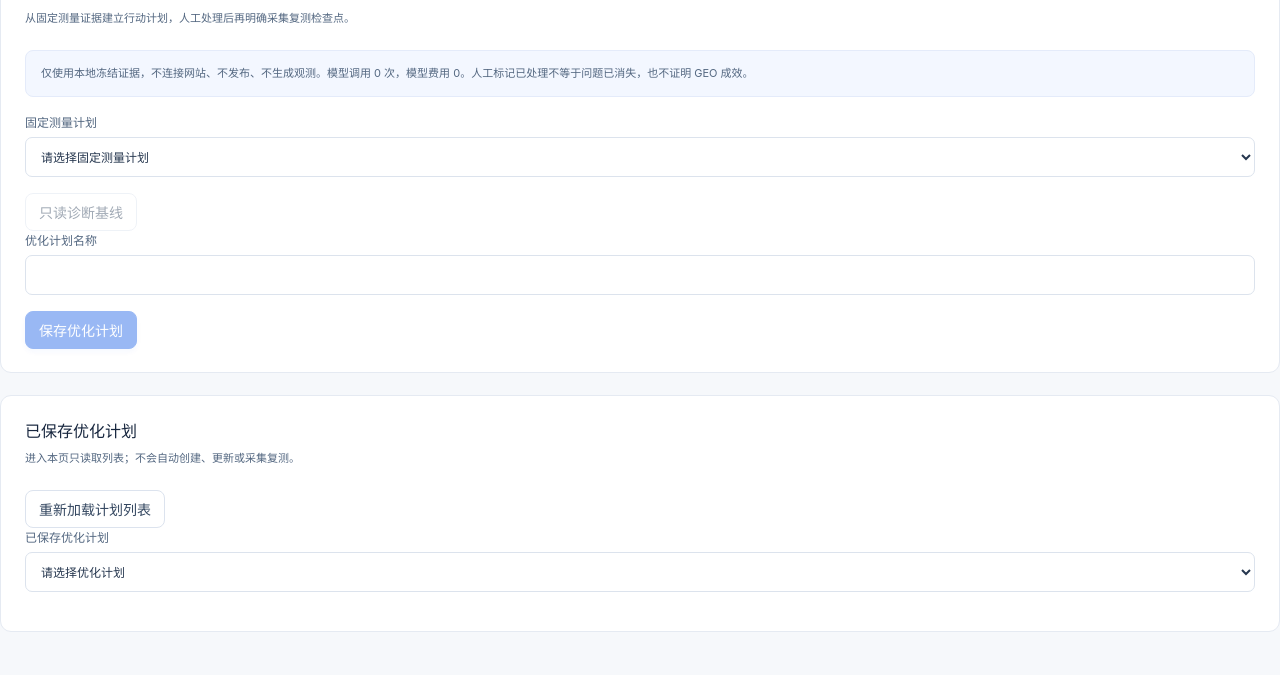
it: uncertain_update_requires_reload_and_never_replays
The image size is (1280, 675).
Select "虚构优化计划 · 模拟数据 · v1 · 检查点 1 · 行动 0/1" in the dropdown labelled "已保存优化计划": (640, 572) x1=25 y1=552 x2=1255 y2=592
(page scrolled)
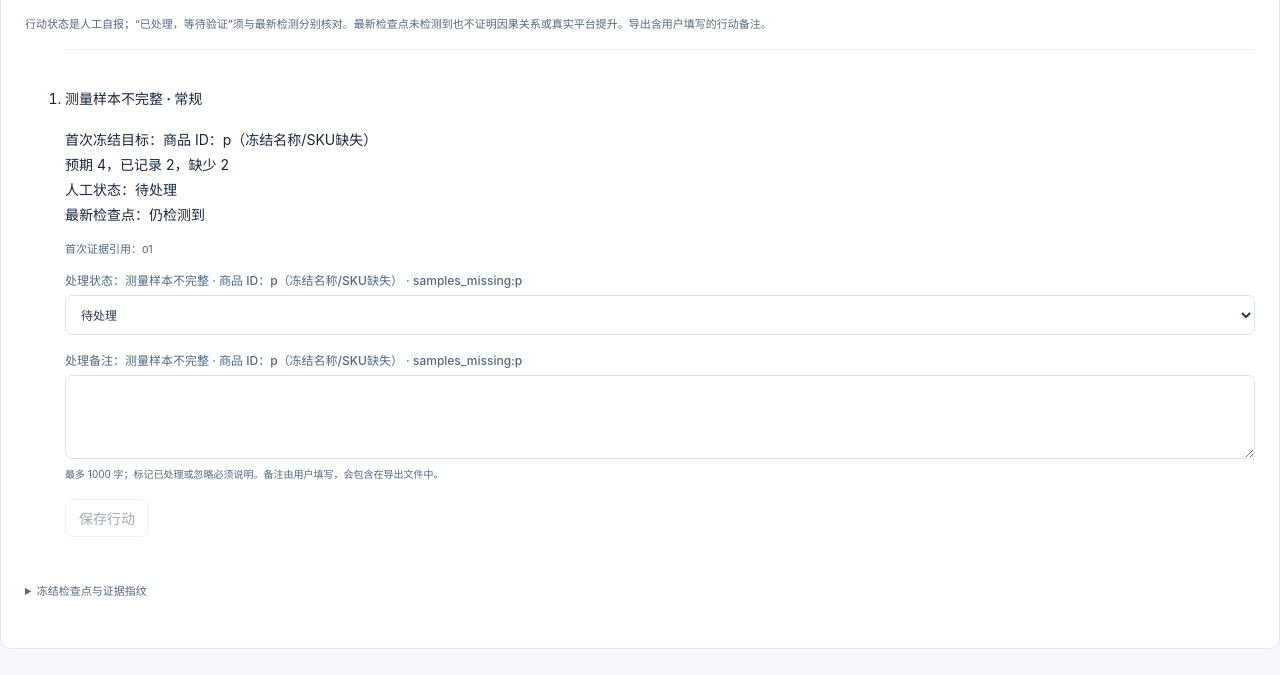
Select "处理中" in the dropdown labelled "处理状态：测量样本不完整 · 商品 ID：p（冻结名称/SKU缺失） · samples_missing:p": (660, 315) x1=65 y1=295 x2=1255 y2=335
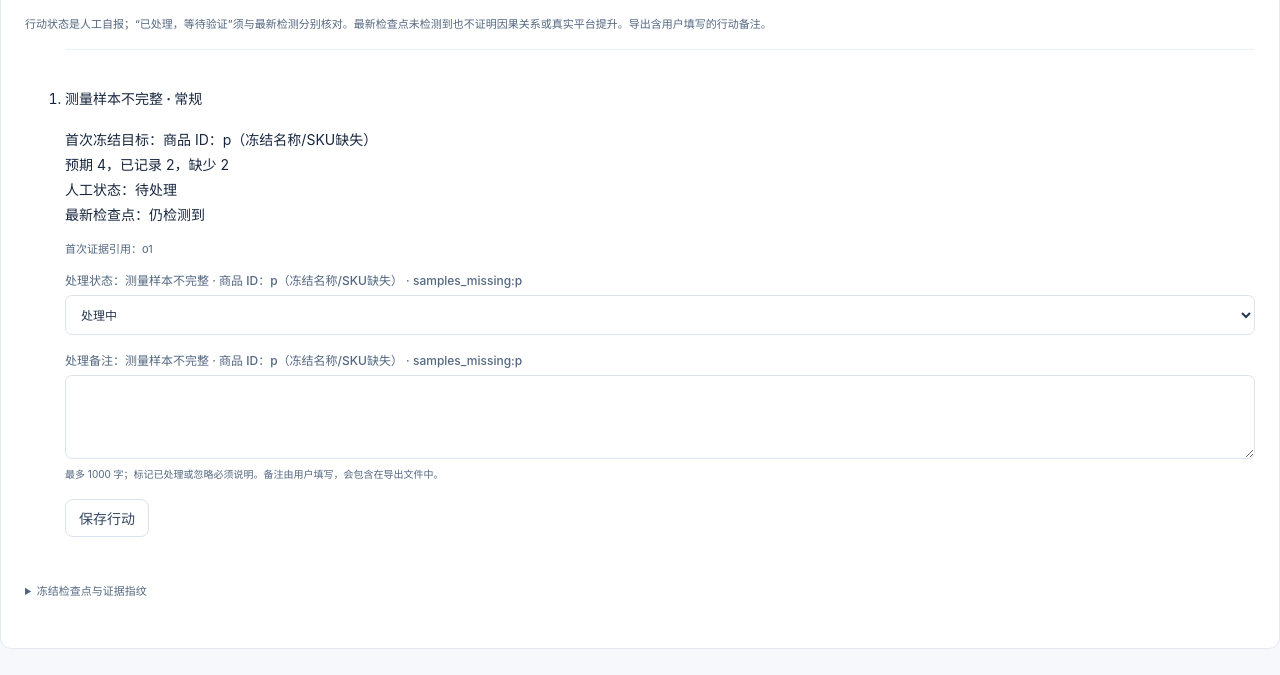
Click the button named "保存行动：测量样本不完整": (107, 518) x1=65 y1=498 x2=149 y2=536
(page scrolled)
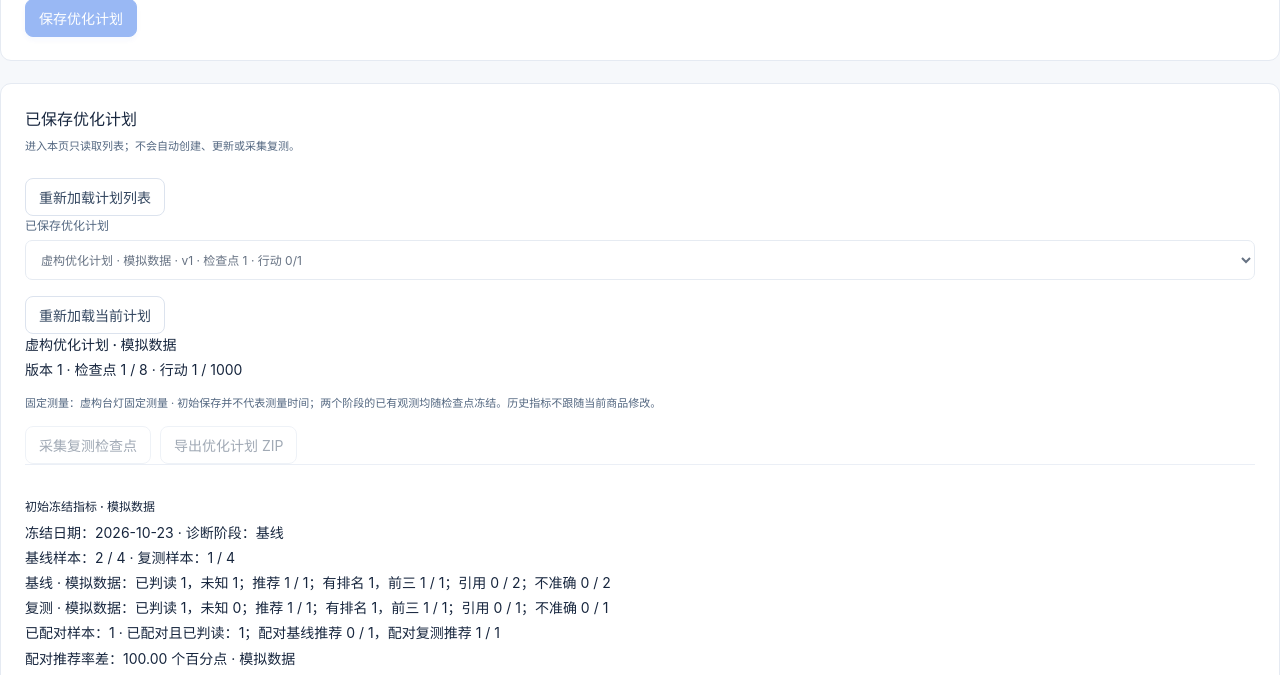
Result: the button "采集复测检查点" is disabled at x1=25 y1=426 x2=151 y2=464
Click the button "重新加载当前计划": (95, 315) x1=25 y1=296 x2=165 y2=334
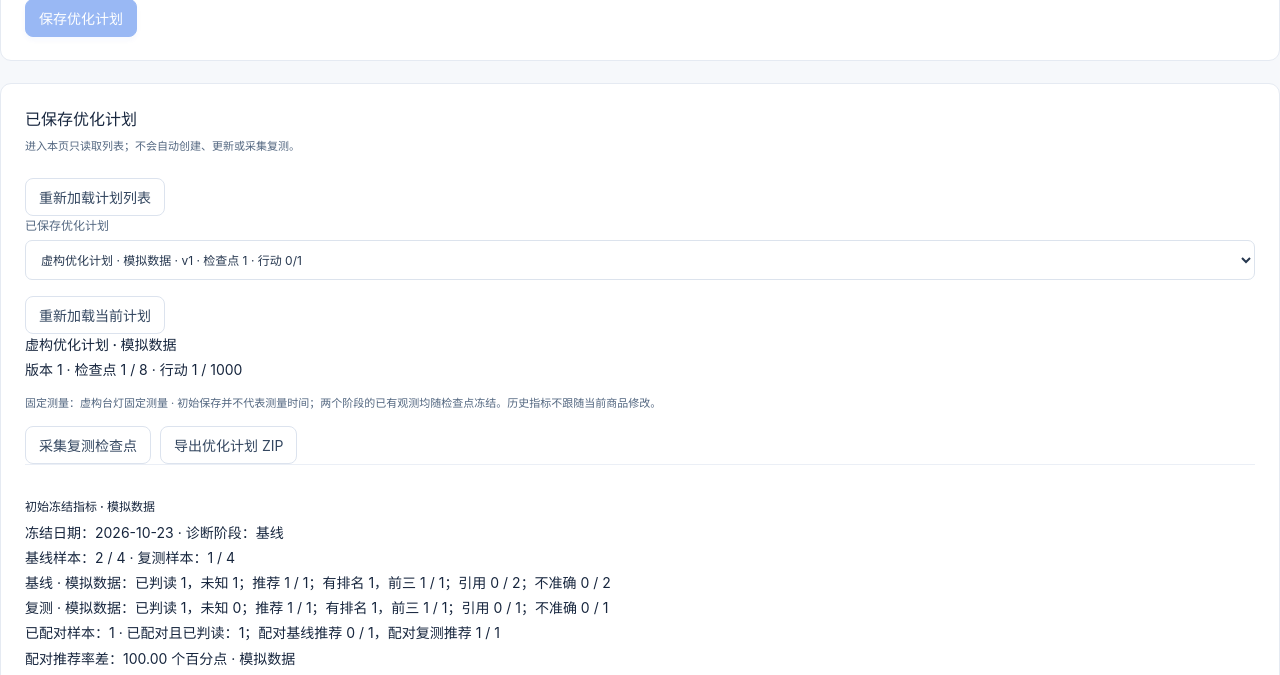
Result: the button "采集复测检查点" is enabled at x1=25 y1=426 x2=151 y2=464
